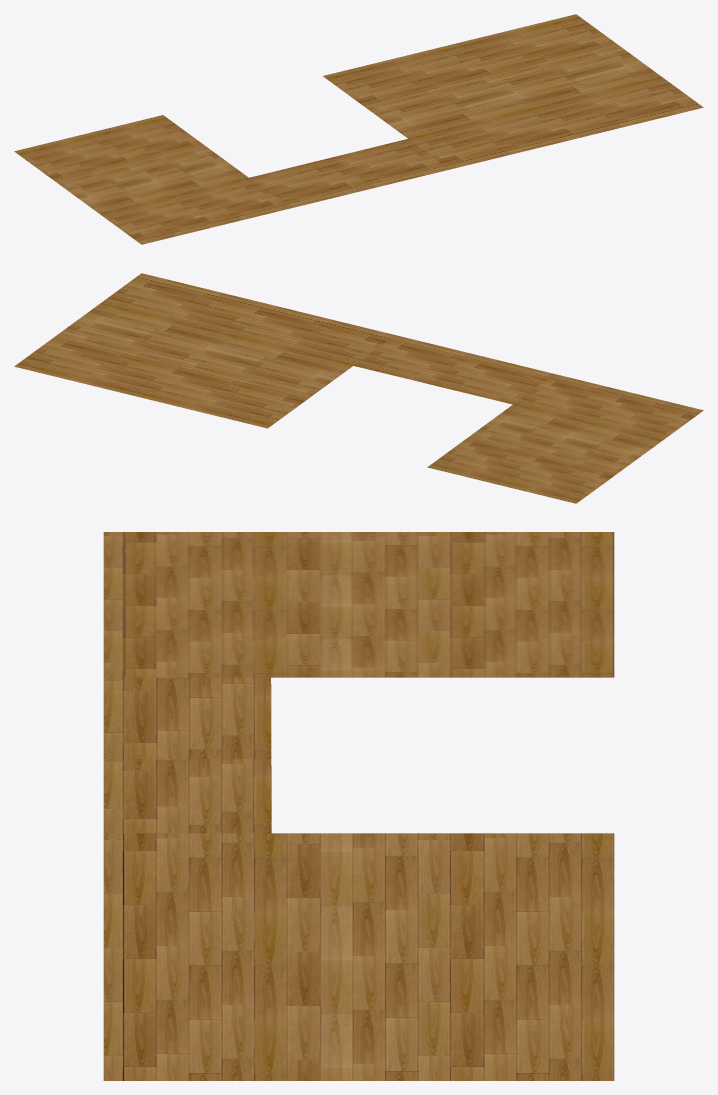
File: wood_floor.fbx
3 views of the same model, one above another, from view 1: azimuth 30°, elevation 25°; view 2: azimuth 150°, elevation 25°; view 3: azimuth 270°, elevation 25° (orthographic). The views are drawn at different scales.
Visible parts, largest first — view 1: polySurface184; view 2: polySurface184; view 3: polySurface184.
Part boxes in pixels (<box>): polySurface184: <box>14,14,703,244</box>; polySurface184: <box>14,273,703,503</box>; polySurface184: <box>103,532,614,1080</box>.
Bounding box in the file's own units: 9.14 × 0 × 3.59.
1 material, 1 textured.
